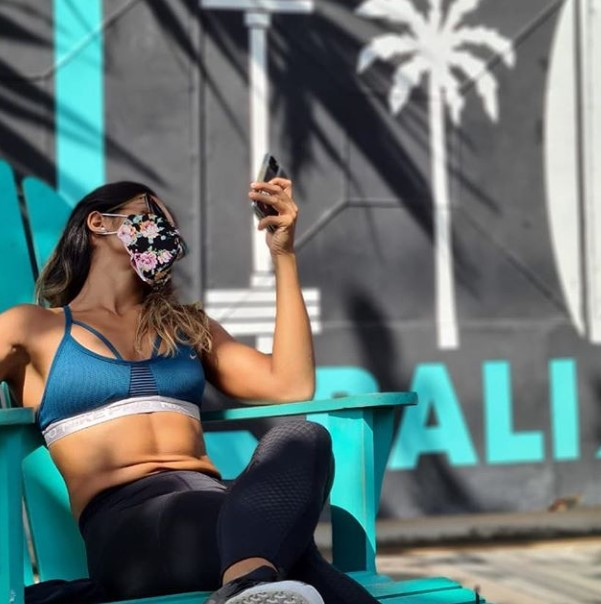face_with_mask: (83, 181, 189, 291)
